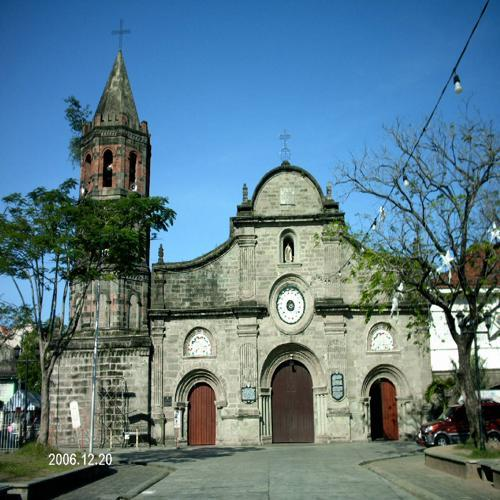Barasoain Church: (42, 14, 434, 448)
